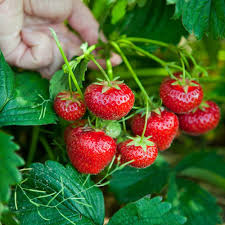ripe: (65, 122, 115, 182), (128, 105, 178, 152), (88, 75, 136, 122), (159, 71, 203, 117), (175, 100, 222, 140), (51, 85, 89, 123), (120, 134, 158, 170)
